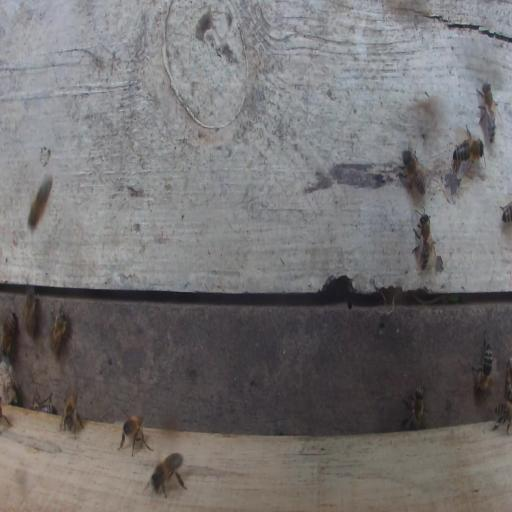nonpollenbee: (148, 451, 186, 500), (451, 125, 484, 176), (397, 148, 428, 197), (476, 81, 500, 144), (412, 210, 436, 272), (119, 414, 154, 456), (471, 334, 493, 397), (400, 382, 426, 430), (29, 176, 52, 229), (60, 388, 84, 435), (50, 306, 68, 356), (24, 285, 39, 341), (1, 310, 18, 357), (490, 400, 512, 434), (31, 391, 56, 414), (500, 200, 512, 224), (505, 359, 512, 400)
